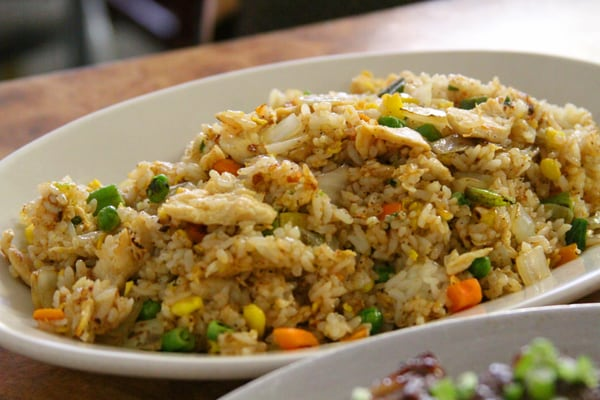sushi: (0, 33, 599, 390)
